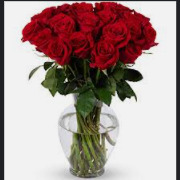RedRose: (91, 39, 119, 70), (49, 35, 73, 66), (103, 23, 128, 50), (69, 33, 92, 58), (136, 27, 159, 52), (30, 29, 53, 52), (119, 41, 141, 65), (79, 17, 103, 37), (53, 17, 74, 37), (22, 22, 42, 40), (28, 9, 51, 24), (73, 2, 94, 15)
